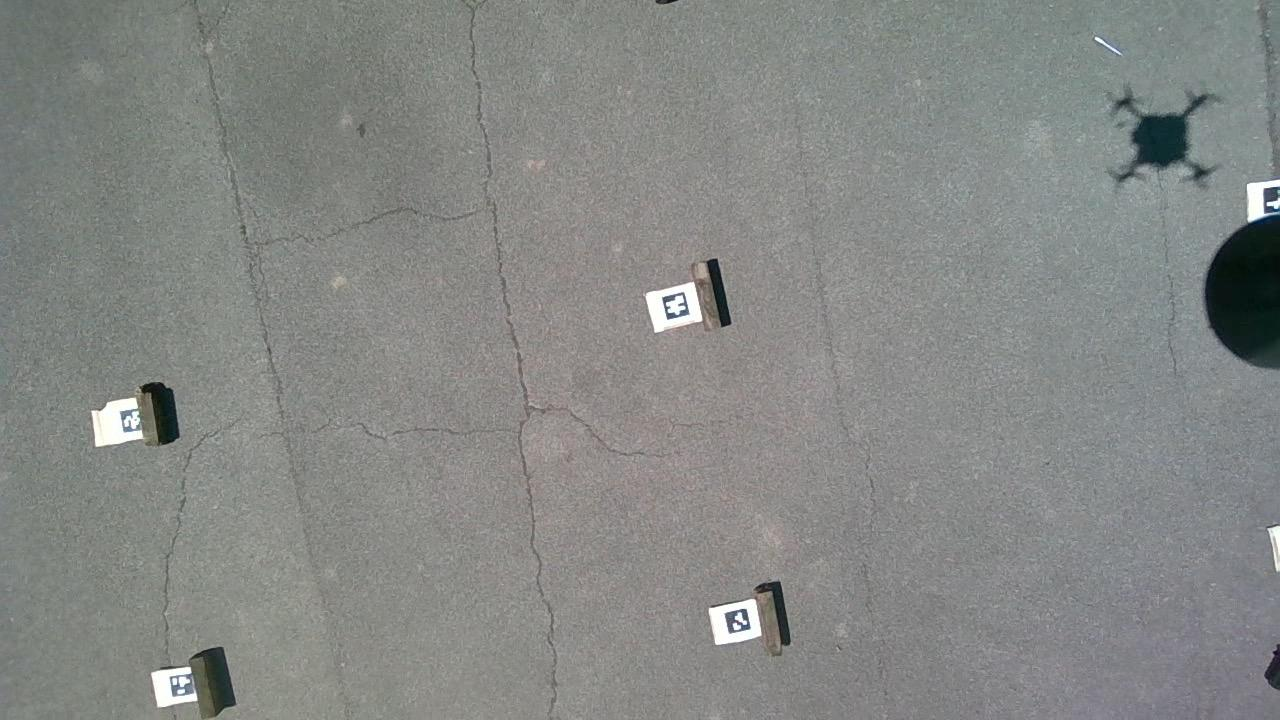probes: (1094, 36, 1122, 56)
